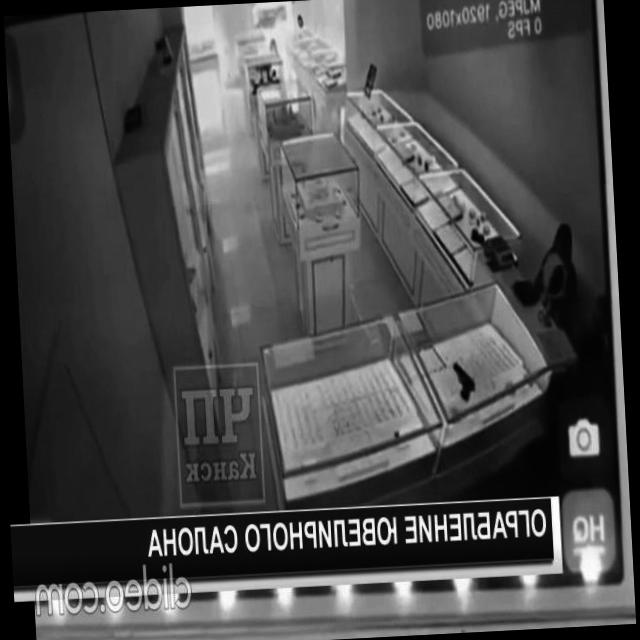gun: (451, 359, 476, 402)
